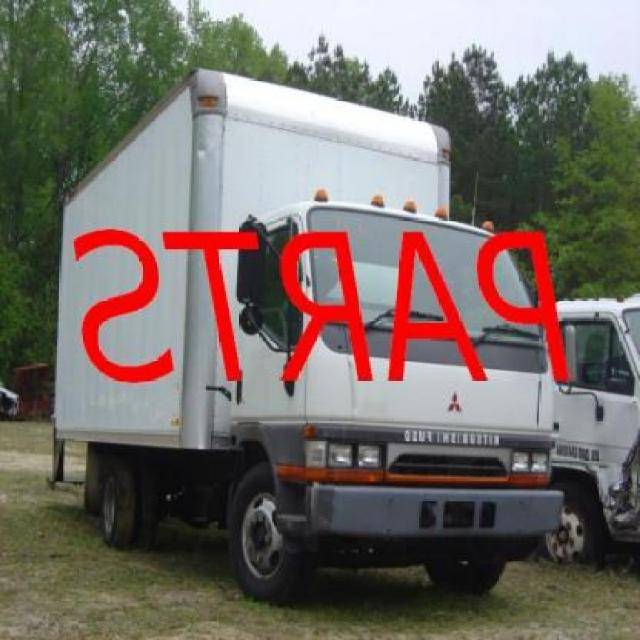truck: (55, 68, 562, 597)
